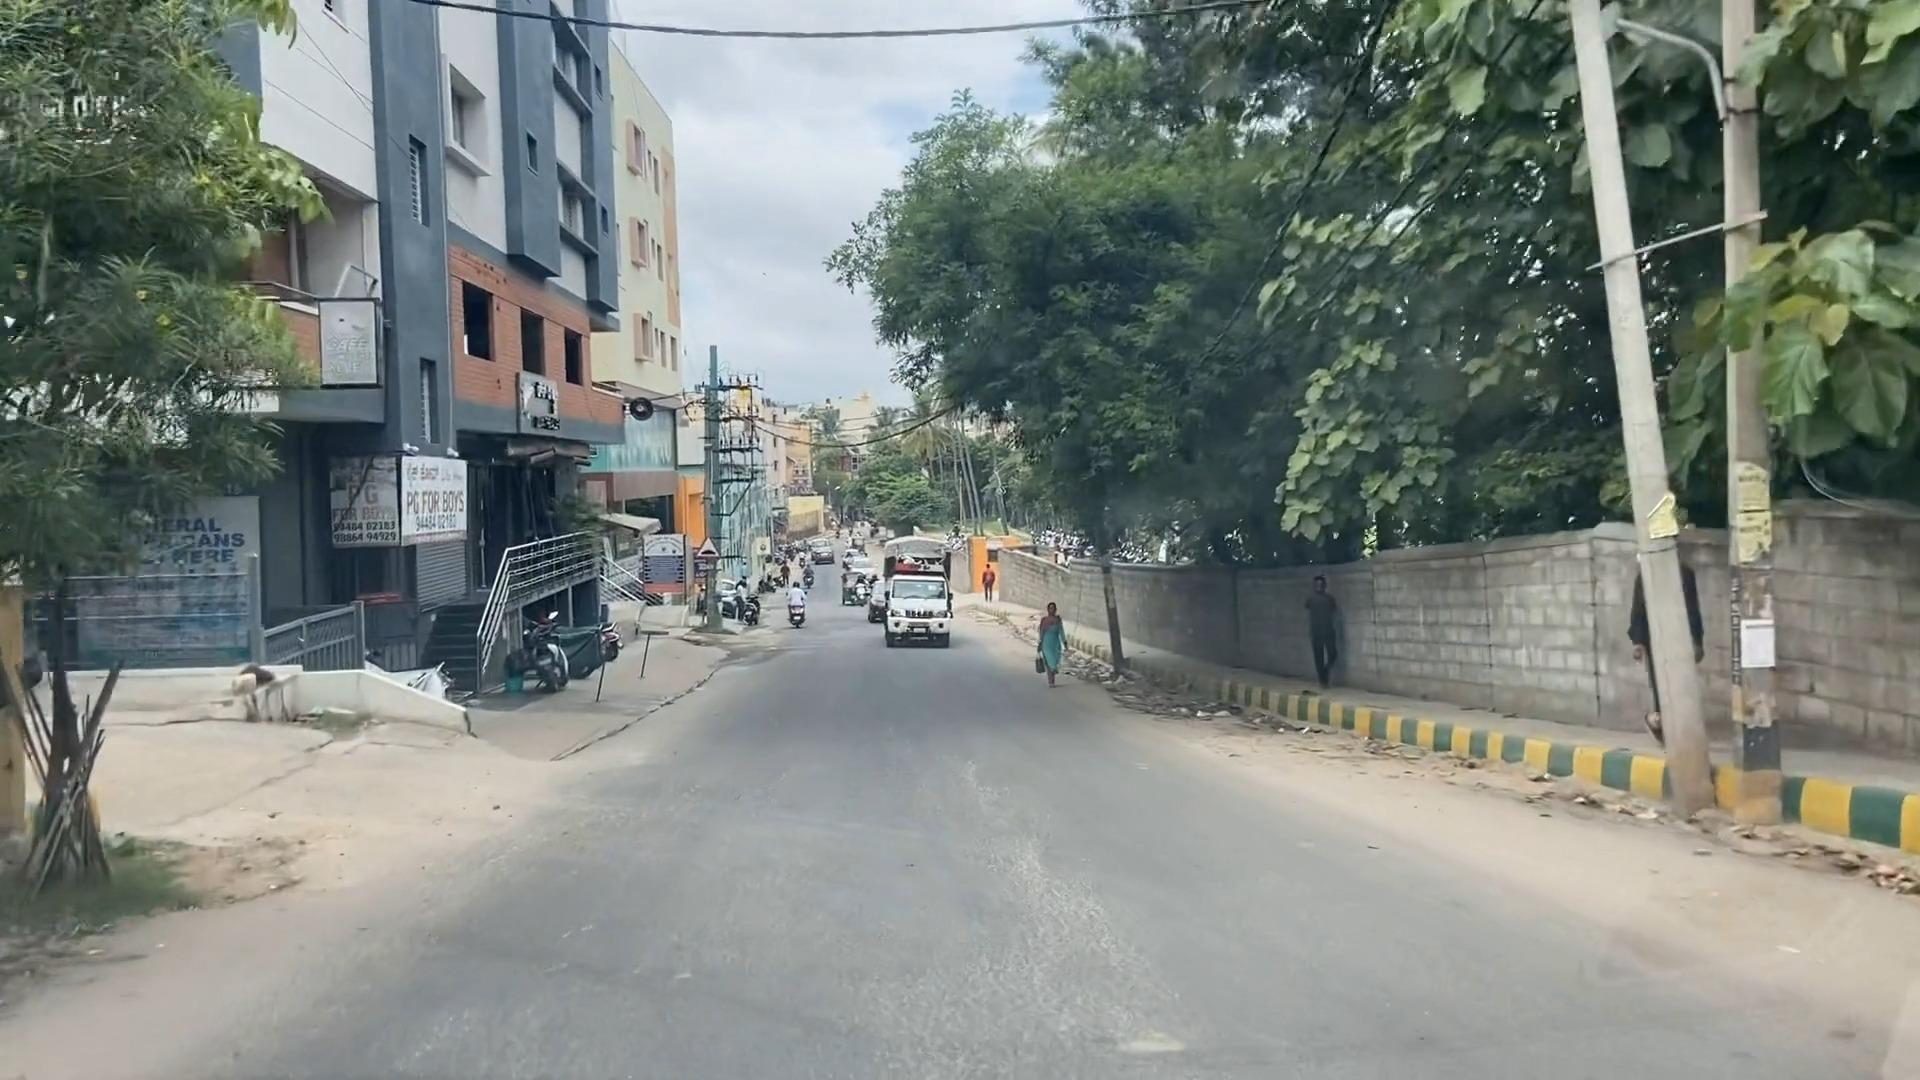HMV: (878, 541, 982, 662)
